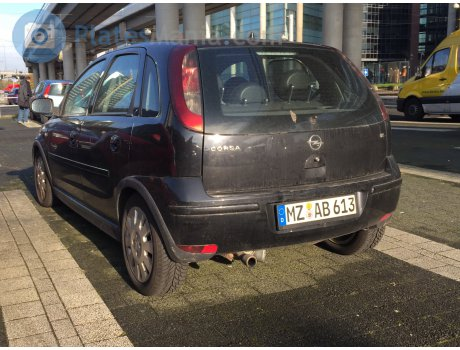License Plates: (281, 203, 357, 217)
